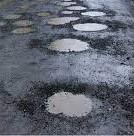pothole: (38, 83, 97, 120), (39, 32, 90, 54), (72, 21, 108, 33), (46, 15, 81, 25), (12, 18, 34, 27), (10, 27, 34, 35), (80, 10, 106, 17), (64, 5, 87, 11), (56, 0, 77, 6), (35, 10, 52, 17), (4, 13, 23, 19), (58, 10, 76, 16)
